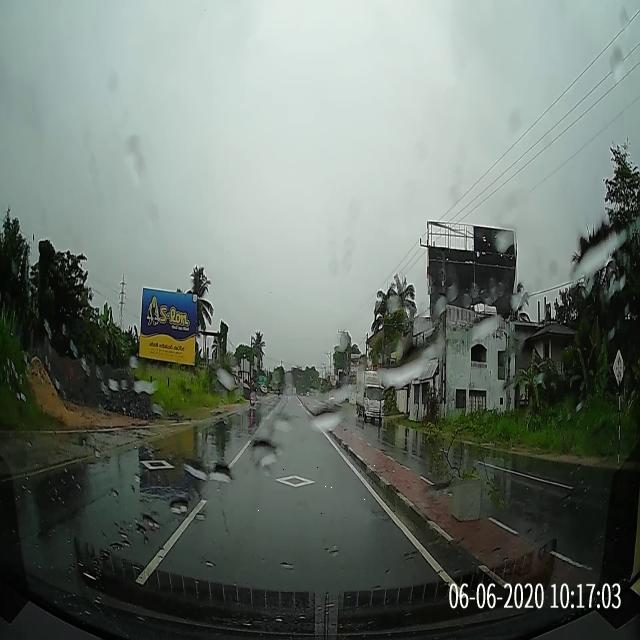diamond: (203, 465, 408, 526)
